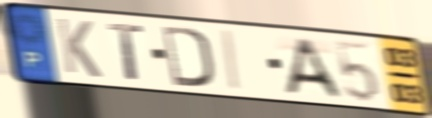5: (332, 38, 382, 104)
A: (282, 36, 344, 101)
D: (160, 23, 215, 90)
I: (221, 28, 244, 94)
K: (53, 15, 104, 81)
T: (106, 20, 147, 83)
